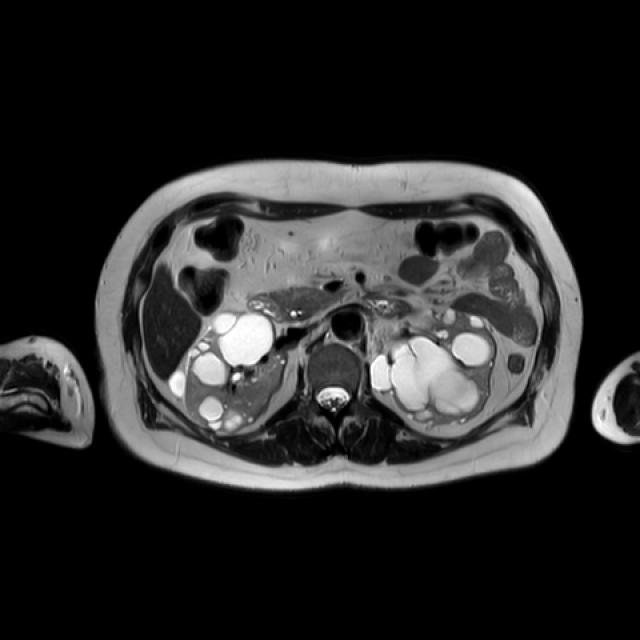sag: (168, 309, 288, 435)
sol: (367, 308, 499, 430)
